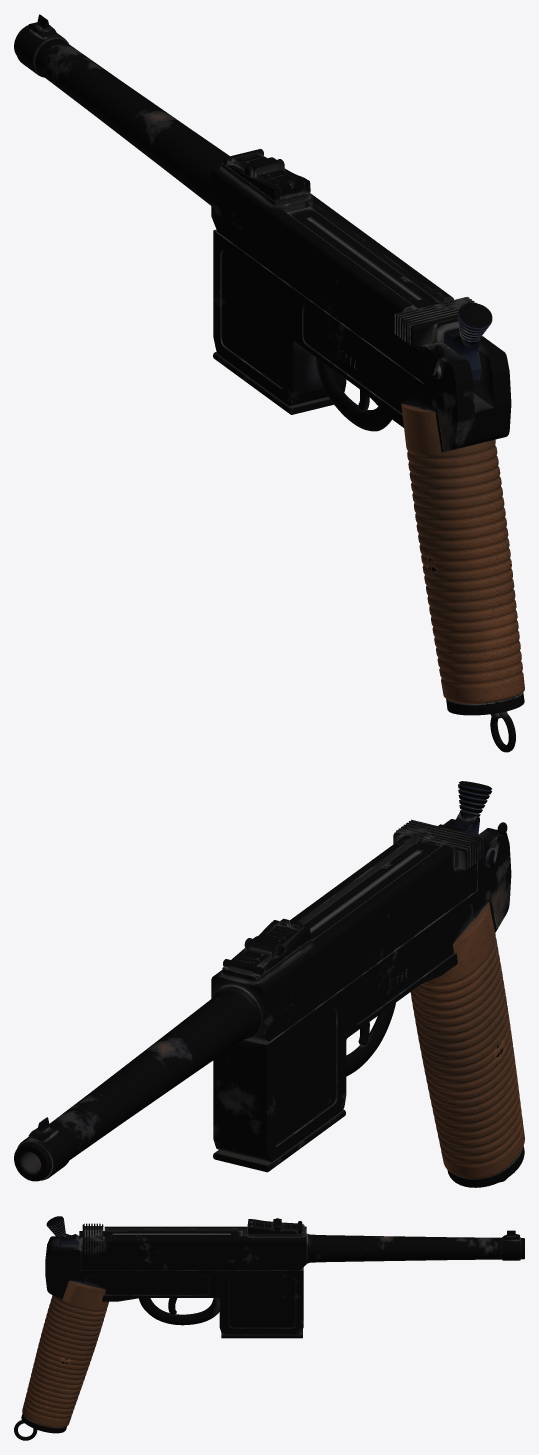
3 renders of one model, top to bottom at view 1: azimuth 30°, elevation 25°; view 2: azimuth 150°, elevation 25°; view 3: azimuth 270°, elevation 25°, orthographic. The views are drawn at different scales.
Visible parts, largest first — view 1: Govde, Ahsap, Surgu, GezYaprak; view 2: Govde, Ahsap, Surgu, GezYaprak, GezSurgu; view 3: Govde, Ahsap, Surgu, GezYaprak.
Part boxes in pixels (x1,y1,x2,y2): Govde: [14, 14, 524, 752]; Ahsap: [401, 403, 524, 703]; Surgu: [286, 207, 476, 347]; GezYaprak: [234, 153, 303, 196]; Govde: [14, 781, 524, 1187]; Ahsap: [410, 902, 524, 1178]; Surgu: [303, 819, 485, 940]; GezYaprak: [235, 918, 303, 966]; GezSurgu: [244, 936, 284, 957]; Govde: [14, 1216, 524, 1440]; Ahsap: [22, 1281, 108, 1427]; Surgu: [79, 1223, 242, 1252]; GezYaprak: [248, 1219, 298, 1231].
Bounding box in the file's own units: 0.0292 × 0.1623 × 0.3372.
2 materials, 2 textured.
